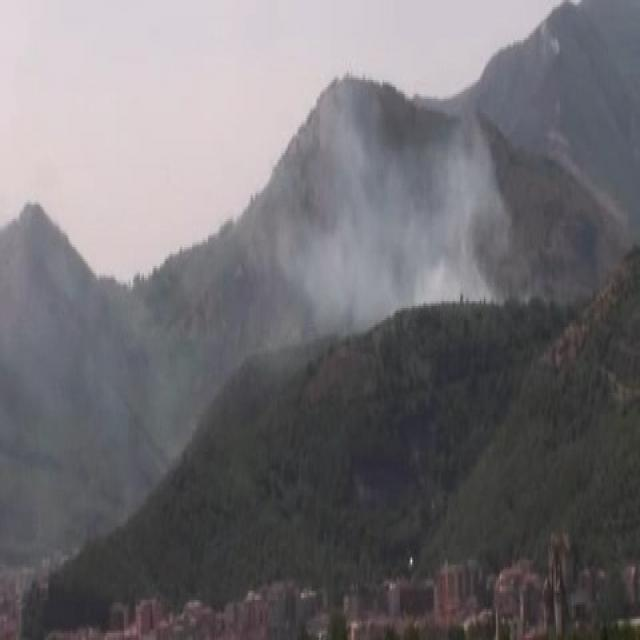smoke: (294, 104, 494, 317)
